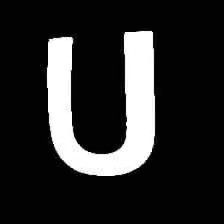LTR_U: (27, 14, 184, 196)
